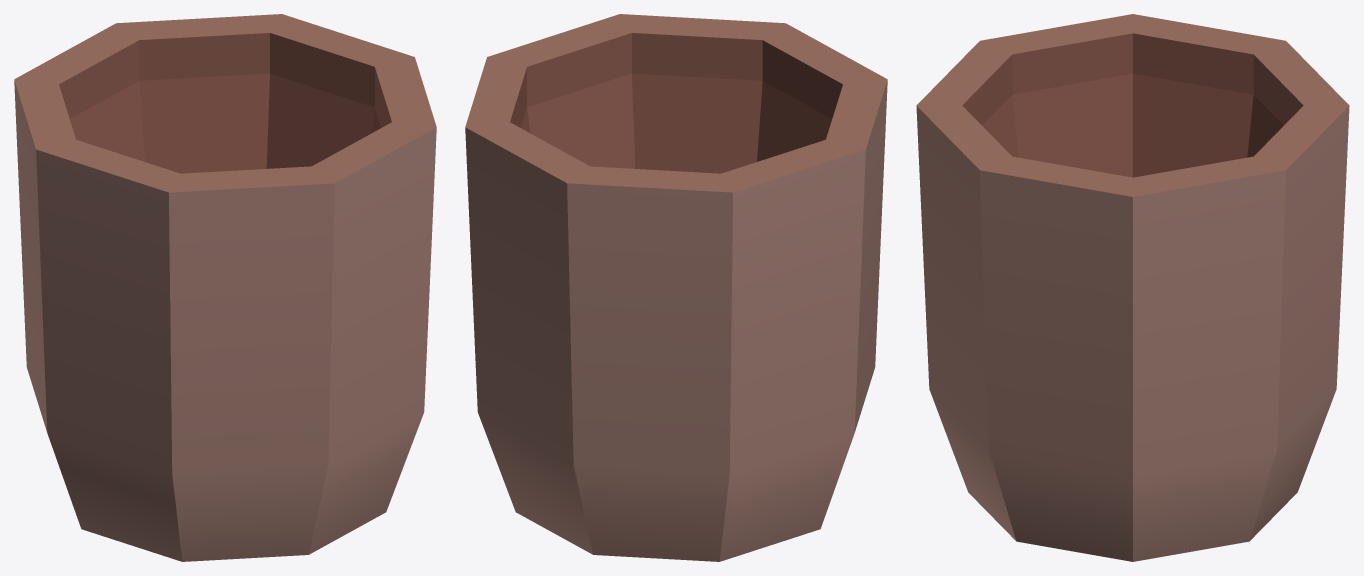
Rendered from tea_cup_empty.fbx.
3 views of the same model, side by side, from view 1: azimuth 30°, elevation 25°; view 2: azimuth 150°, elevation 25°; view 3: azimuth 270°, elevation 25° (orthographic).
Visible parts, largest first — view 1: tea_cup_empty; view 2: tea_cup_empty; view 3: tea_cup_empty.
Boxes of the visible parts, bbox=[...] form: tea_cup_empty: bbox=[14, 14, 436, 561]; tea_cup_empty: bbox=[465, 14, 887, 561]; tea_cup_empty: bbox=[916, 14, 1349, 561].
Size of the model in its own units: 0.6694 by 0.6597 by 0.6694.
